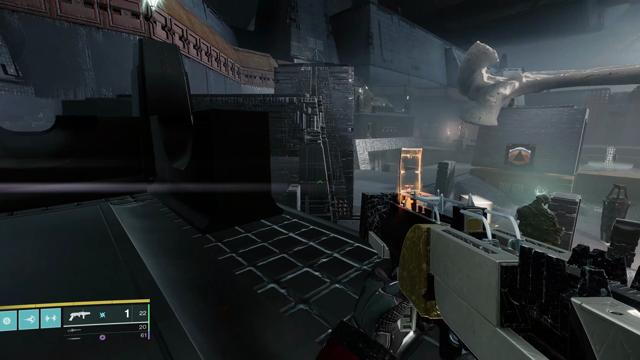pyramid: (508, 146, 531, 166)
